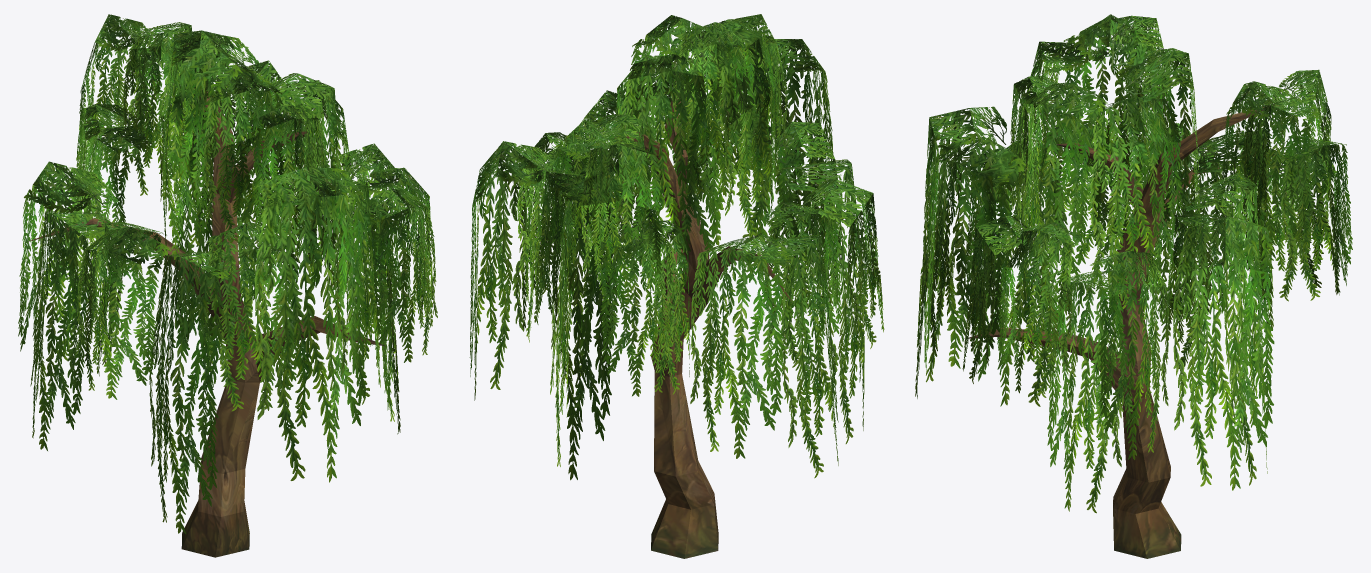
File: szc_tree_liushu01.FBX
3 views of the same model, side by side, from view 1: azimuth 30°, elevation 25°; view 2: azimuth 150°, elevation 25°; view 3: azimuth 270°, elevation 25° (orthographic).
Parts seen in each view (by area): view 1: szc_tree_liushu01_ye, szc_tree_liushu01_gan; view 2: szc_tree_liushu01_ye, szc_tree_liushu01_gan; view 3: szc_tree_liushu01_ye, szc_tree_liushu01_gan.
Part boxes in pixels (x1=…): szc_tree_liushu01_ye: x1=18, y1=14, x2=437, y2=533; szc_tree_liushu01_gan: x1=27, y1=78, x2=385, y2=557; szc_tree_liushu01_ye: x1=469, y1=14, x2=884, y2=480; szc_tree_liushu01_gan: x1=614, y1=67, x2=792, y2=558; szc_tree_liushu01_ye: x1=915, y1=14, x2=1352, y2=513; szc_tree_liushu01_gan: x1=964, y1=104, x2=1274, y2=558.
Size of the model in its own units: 227 by 333 by 259.
